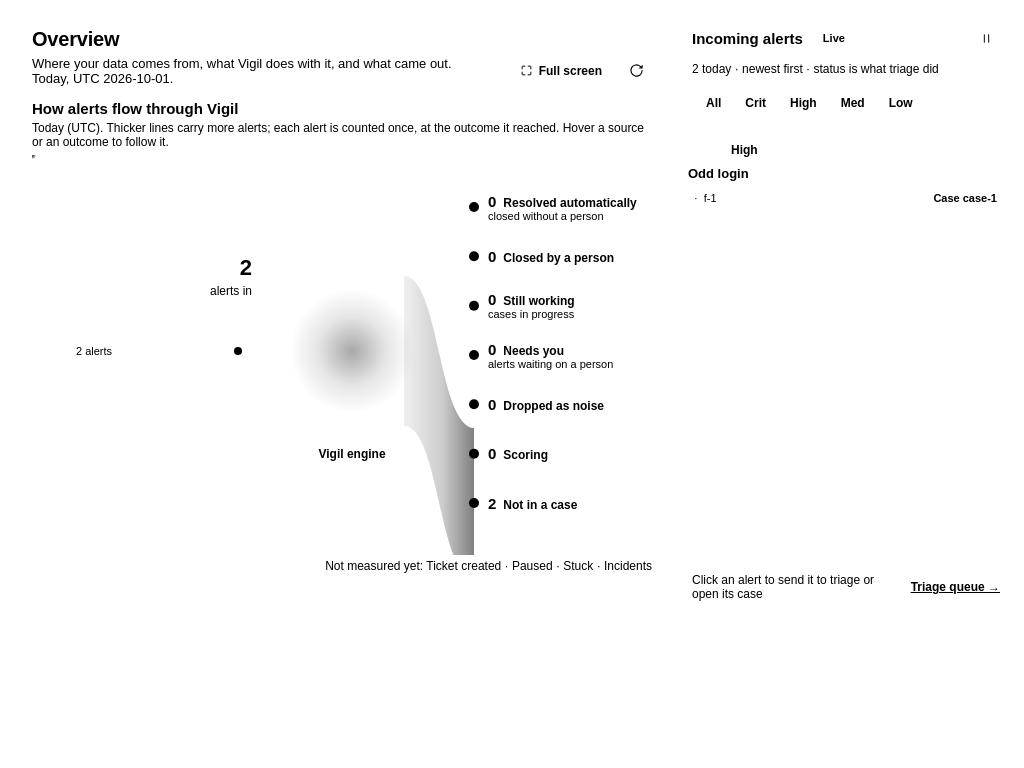
Scenario: OverviewScreen › marks then clears, says a second launch is already queued, and shows a Jira error
The image size is (1024, 768).
Step 1. Click the text "f-1" → click(710, 198), box [704,192,716,204]
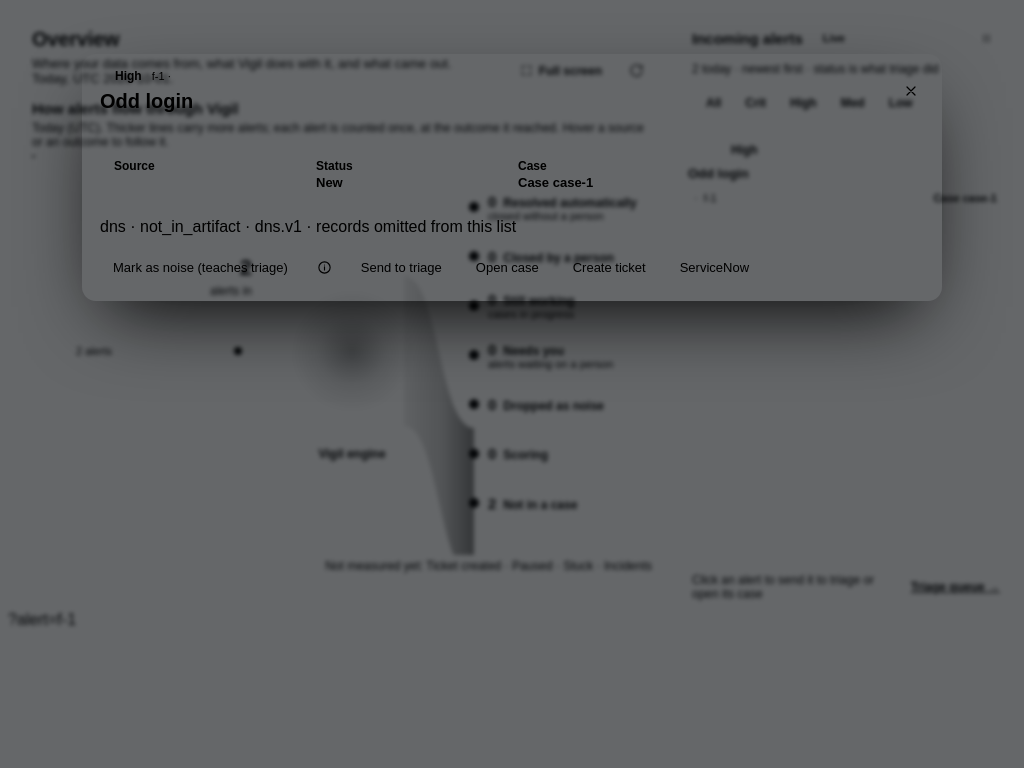
Now the button named "The alert reads Dropped and leaves this feed" is shown, box [309,252,340,283]
Step 2. Click the button "Mark as noise (teaches triage)" → click(200, 267), box [100,252,301,283]
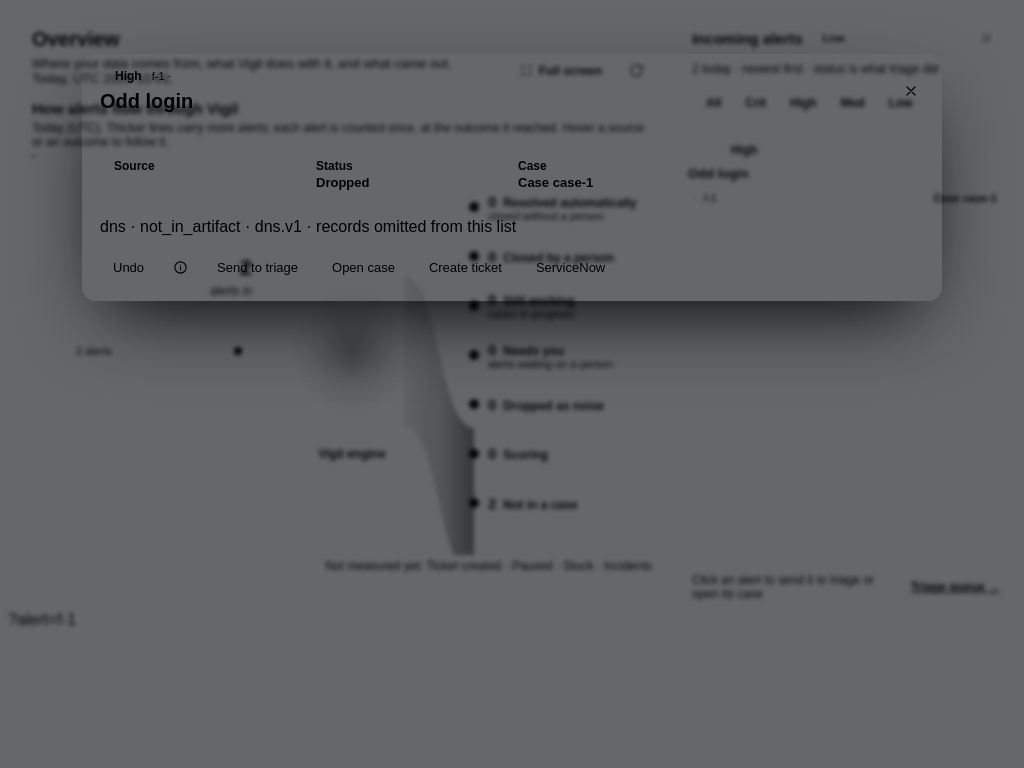
Now the button "Undo" is shown
Step 3. Click the button "Undo" → click(129, 267), box [100,252,157,283]
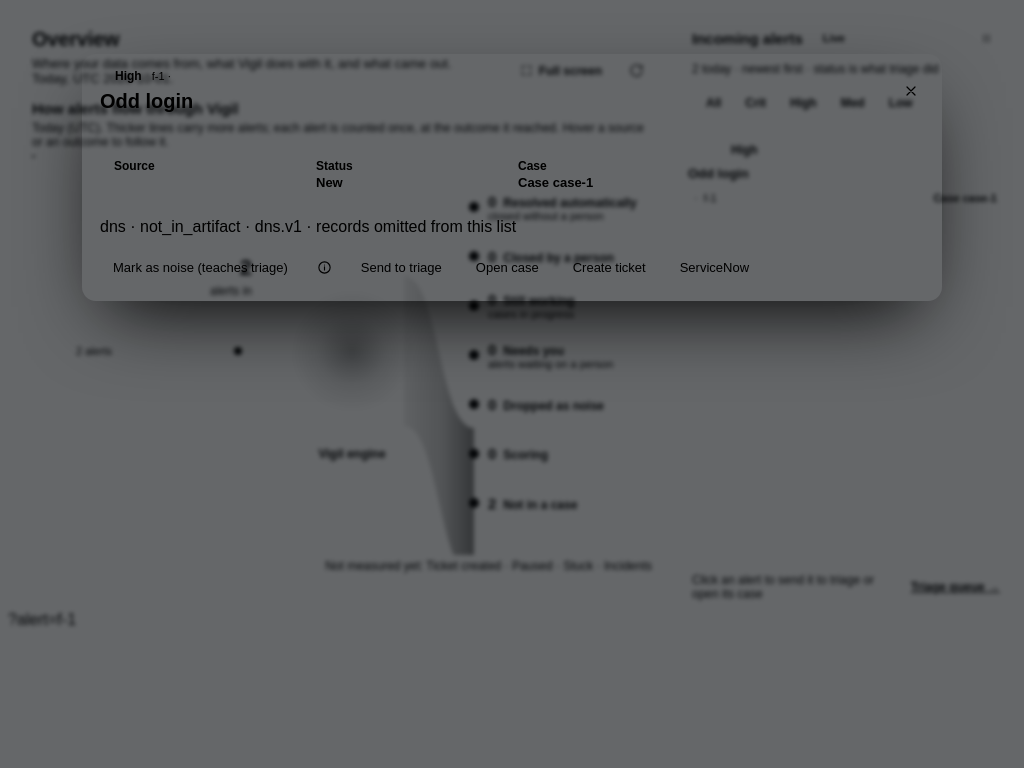
Now the button "Mark as noise (teaches triage)" is shown, box [100,252,301,283]
Step 4. Click the button "Send to triage" → click(401, 267), box [348,252,455,283]
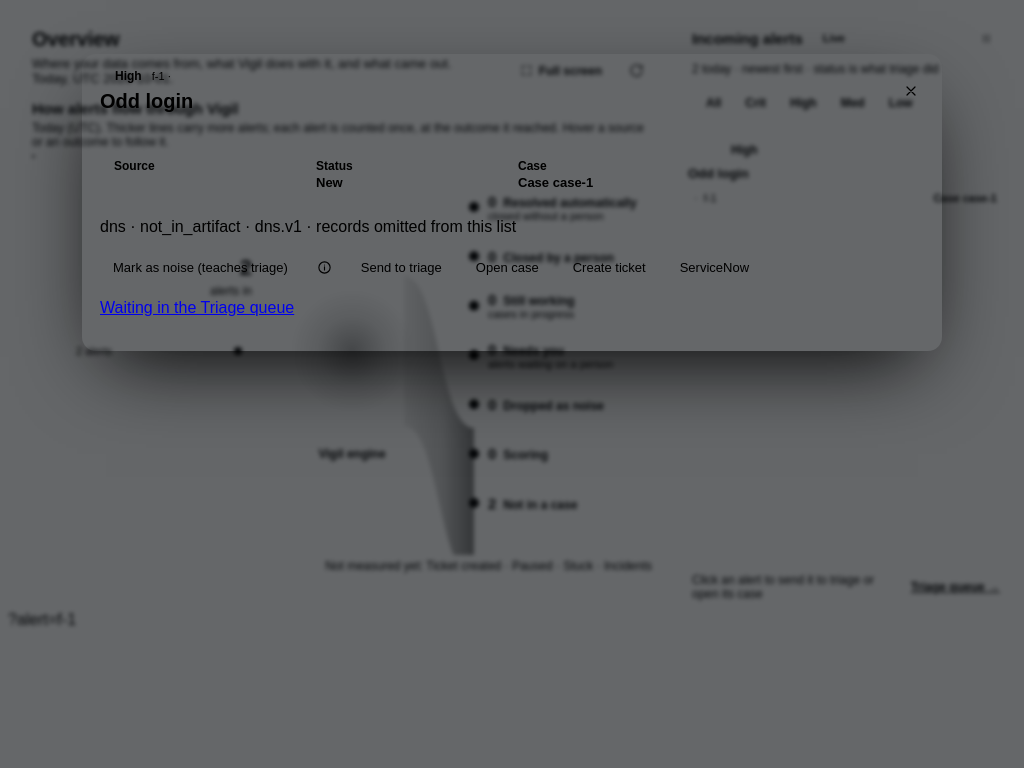
Step 5. Click the button "Send to triage" → click(401, 267), box [348,252,455,283]
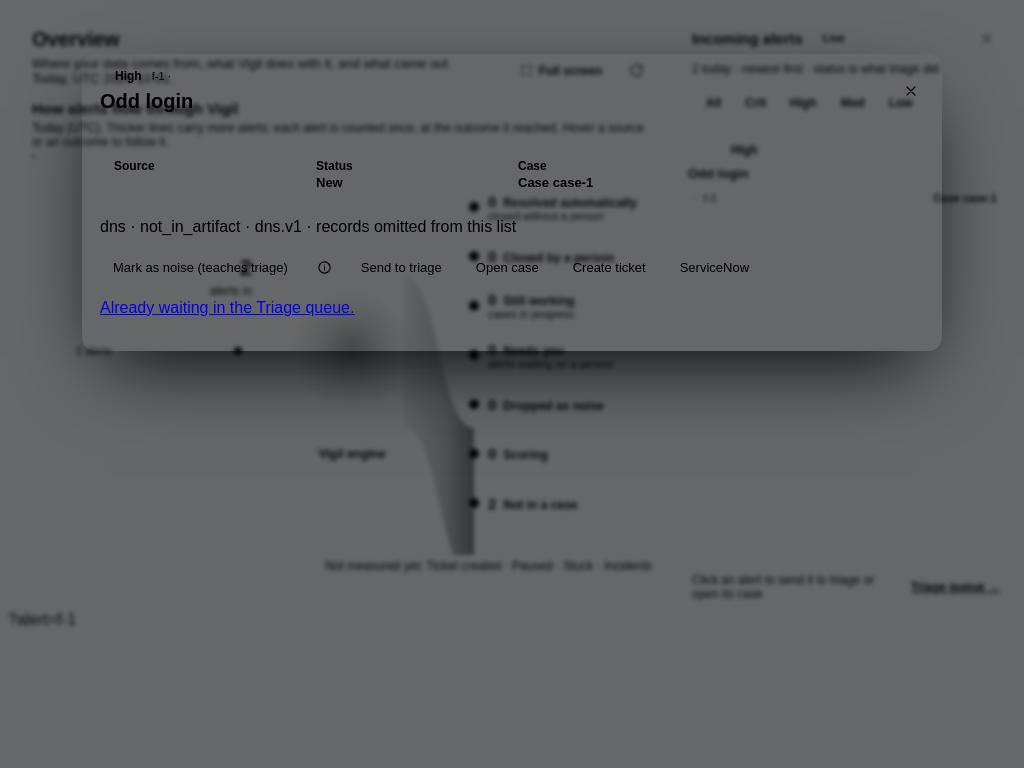
Step 6. Click the button "Create ticket" → click(609, 267), box [560,252,659,283]
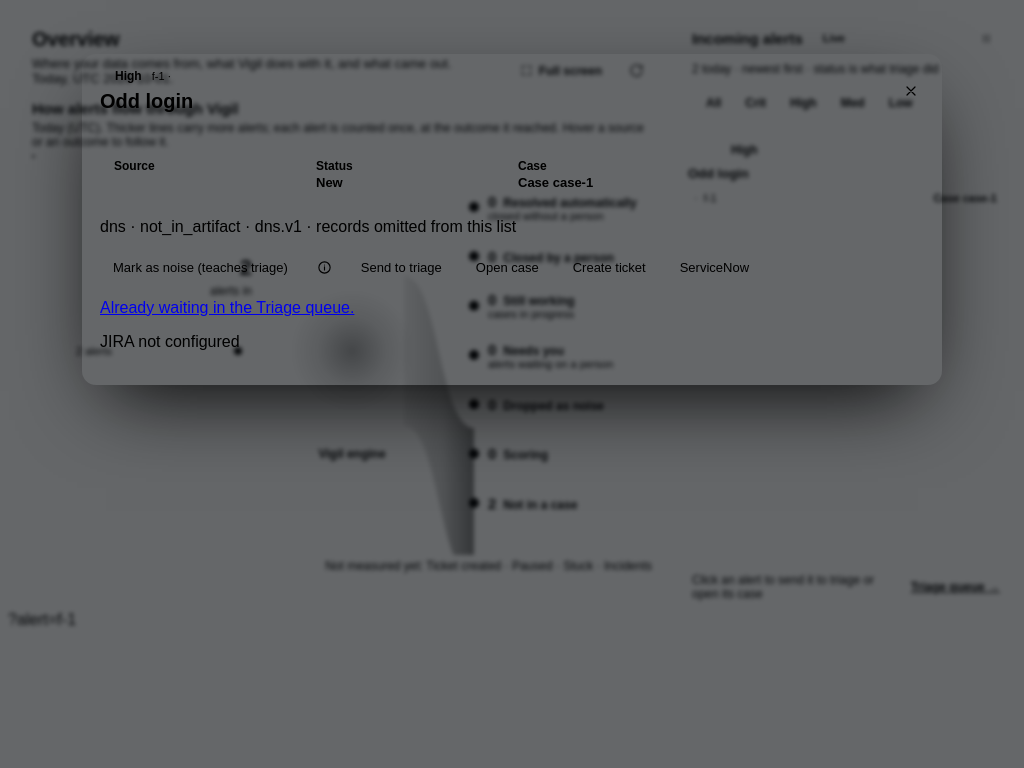
Now the button "ServiceNow" is disabled, box [667,252,762,283]
Now the message reads "JIRA not configured", box [100,333,240,350]
